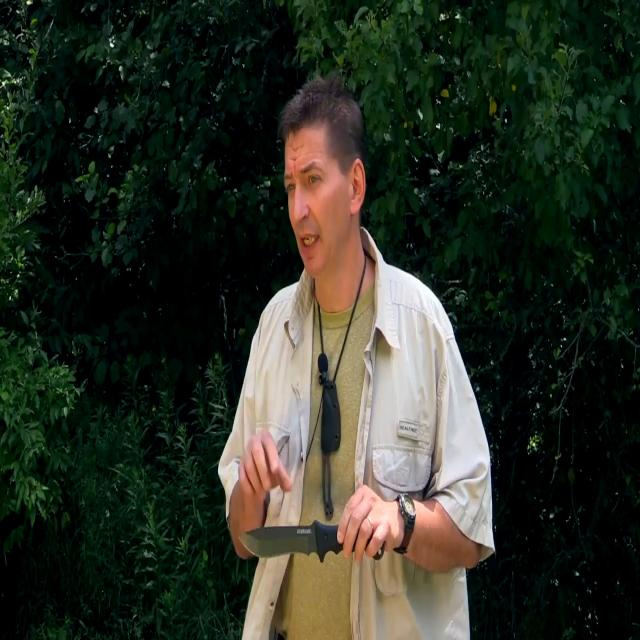knife: (239, 525, 391, 566)
